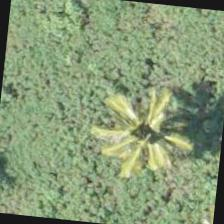Kelapa_Sawit: (95, 91, 194, 190)
